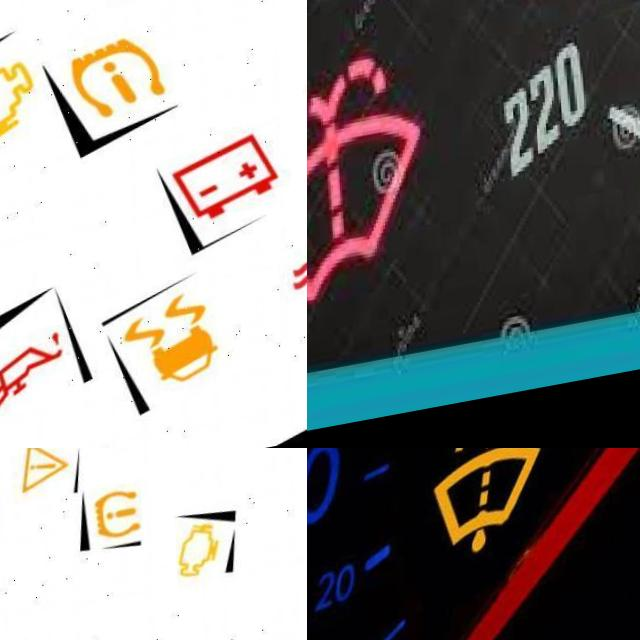Washer Fluid: (307, 57, 419, 316), (431, 448, 542, 564)
